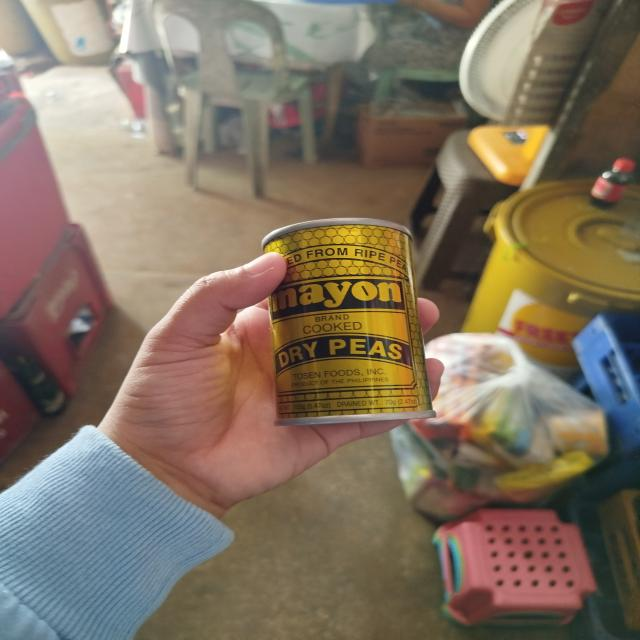metal: (248, 205, 436, 436)
plastic: (586, 152, 638, 212)
residual: (420, 322, 610, 522)
